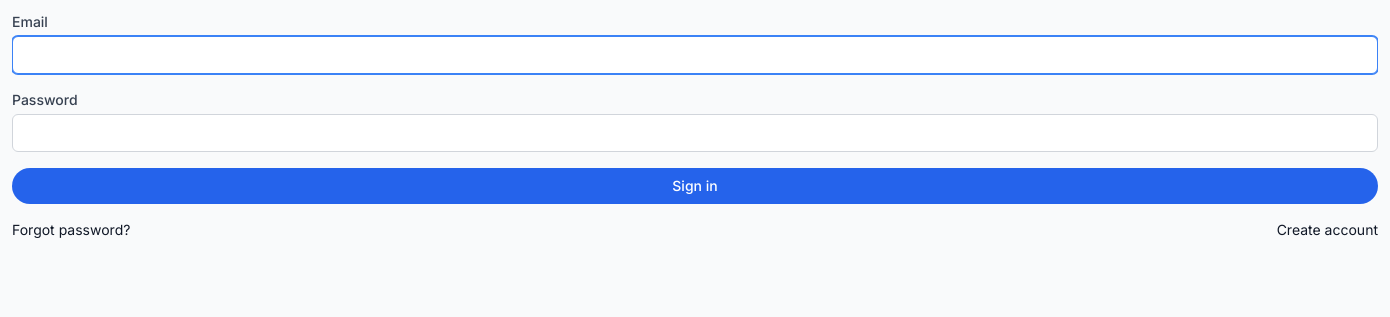
Test: LoginForm › renders the message for non-validation errors
Type "ada@example.com" into the field labelled "Email" at (695, 55), box [12,36,1378,74]
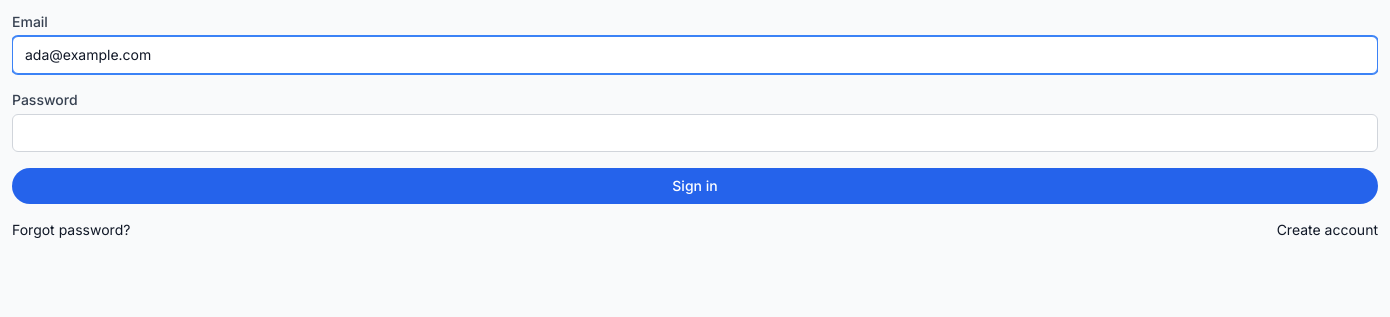
Type "correct-horse-1!" into the password field labelled "Password" at (695, 133), box [12,114,1378,152]
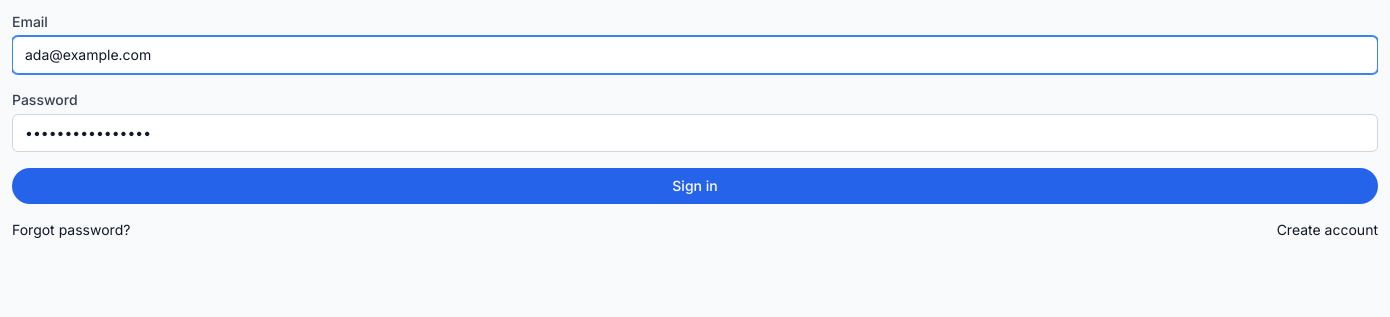
Click the button "Sign in" at (695, 186), box [12,168,1378,204]
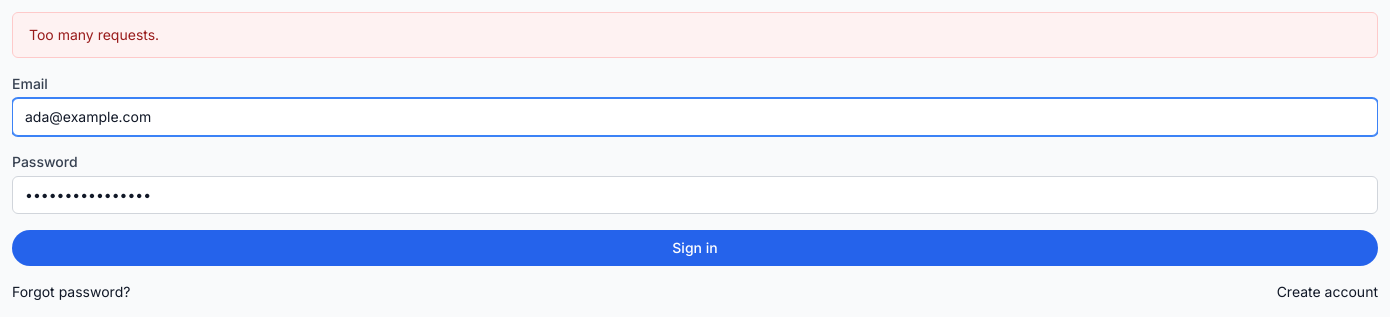
Check: the text "Too many requests." is shown, box [12,12,1378,58]
